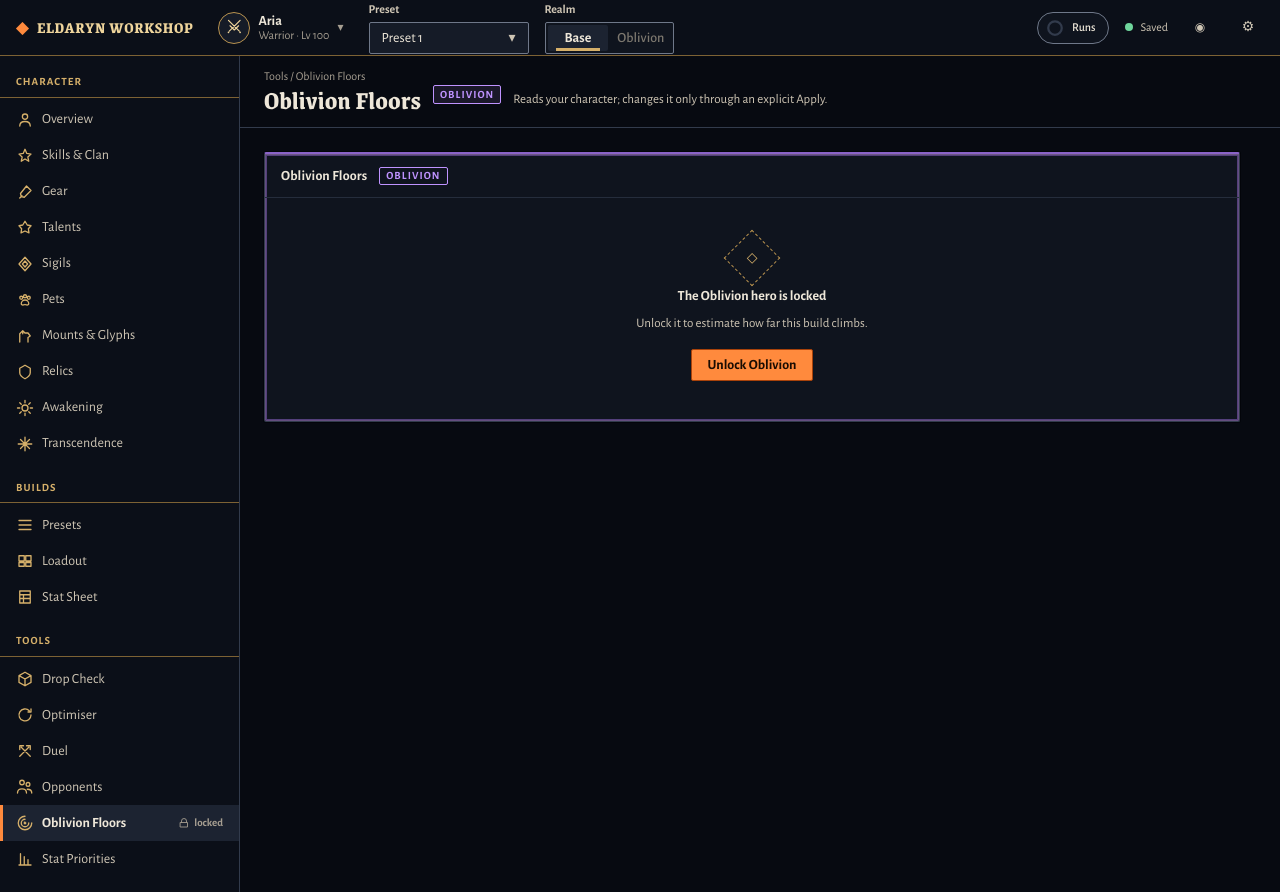
Test case: the Oblivion locked state unlocks inline instead of sending the user away
Click the button "Unlock Oblivion" at (752, 365), box [691,349,814,381]
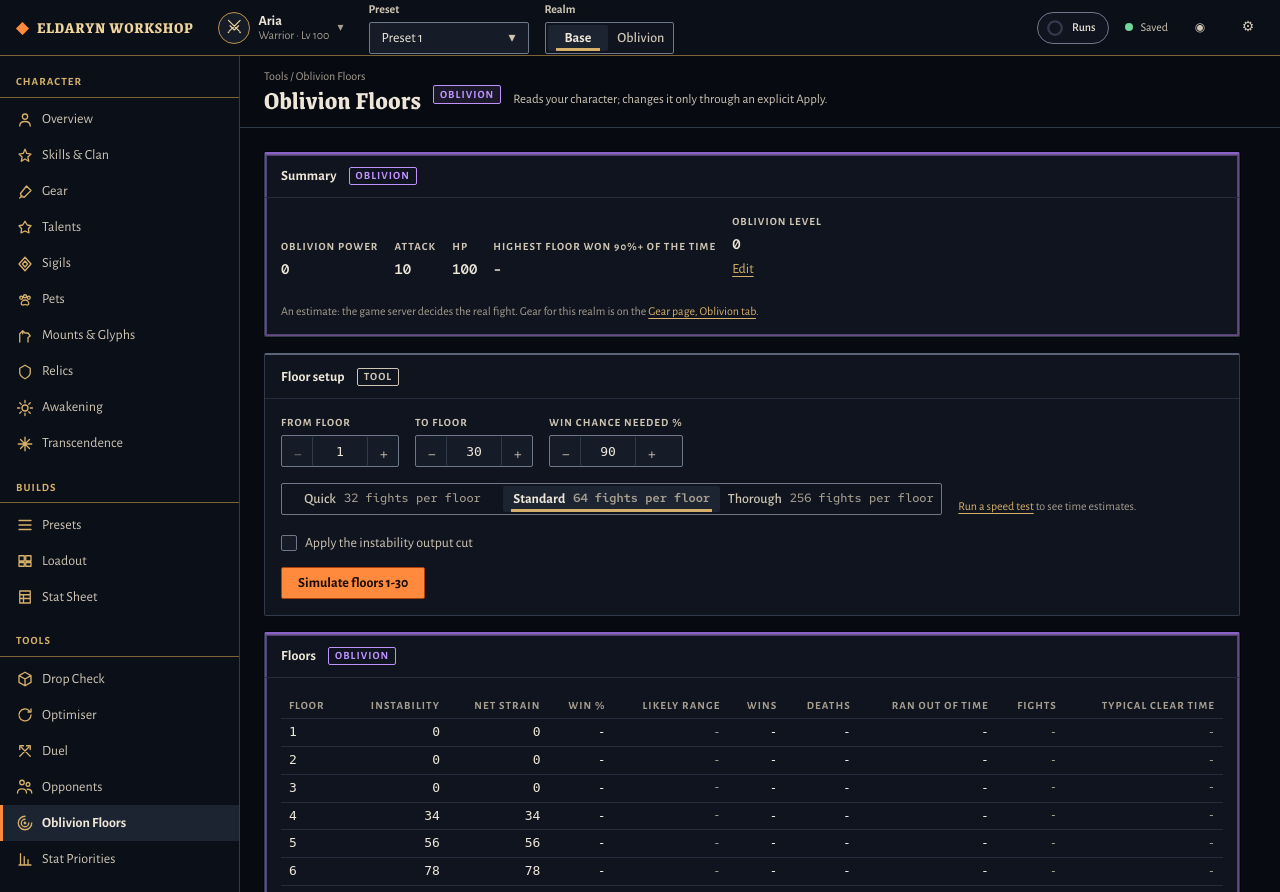
Result: the text with test id "power" is shown at [281,260,289,278]
